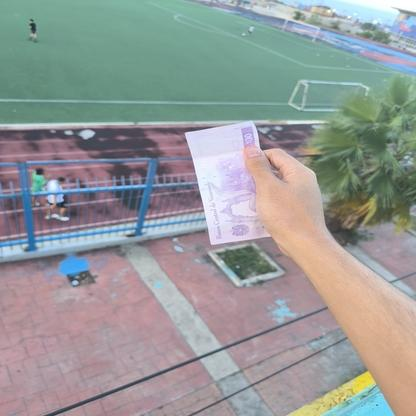one_hundred-back-vef: (184, 118, 271, 246)
